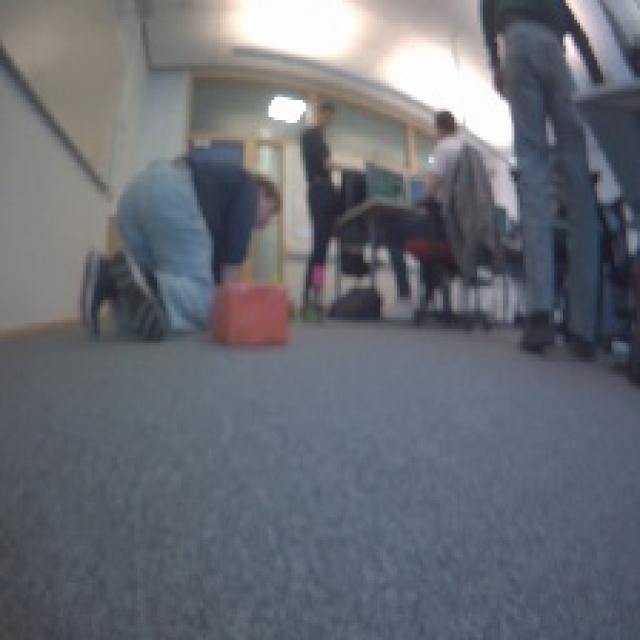robot: (296, 293, 330, 329)
target: (208, 277, 292, 346)
